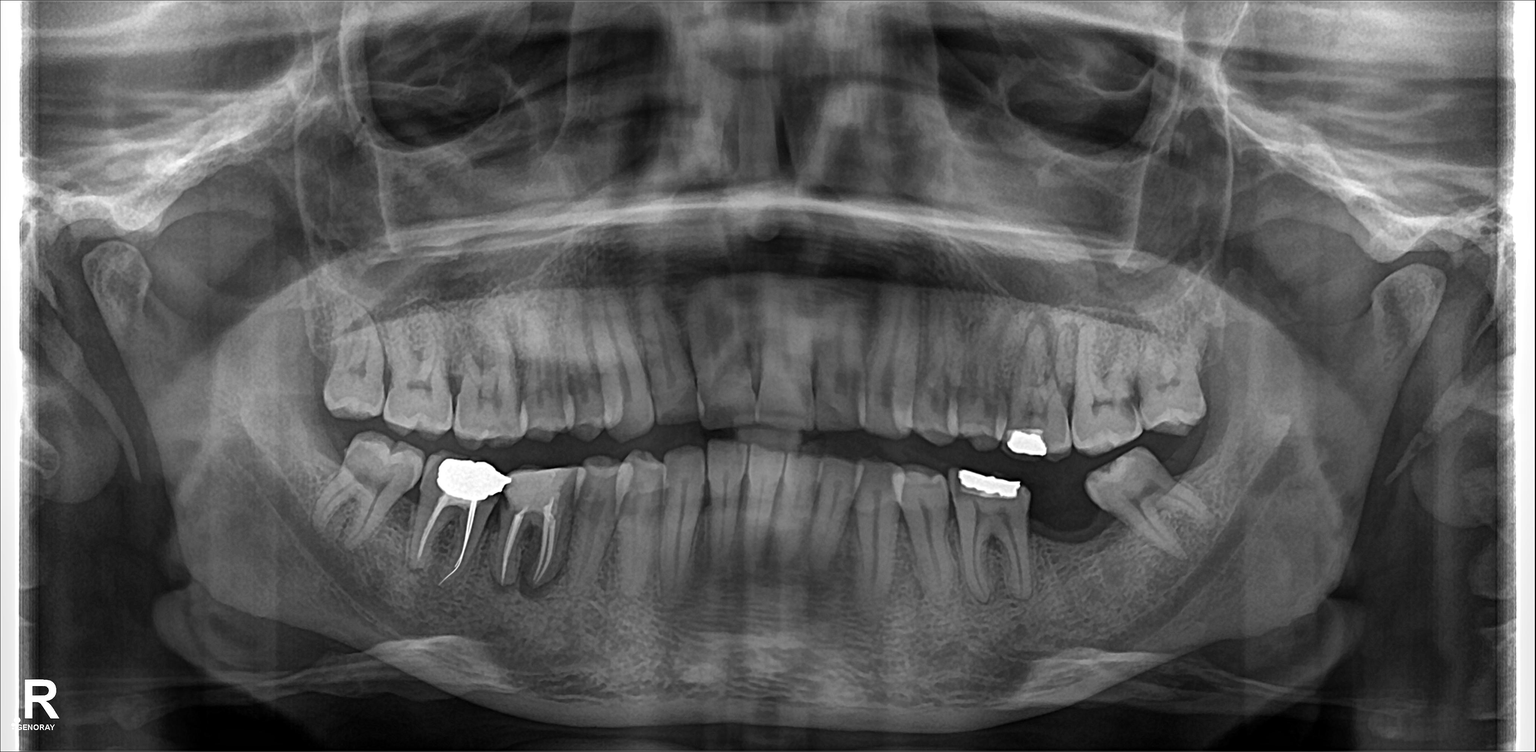Endodontically Treated Tooth: (421, 456, 496, 582), (499, 465, 571, 594)
Impacted Third Molar: (1094, 453, 1202, 544)
Missing Tooth: (1024, 488, 1097, 591)
